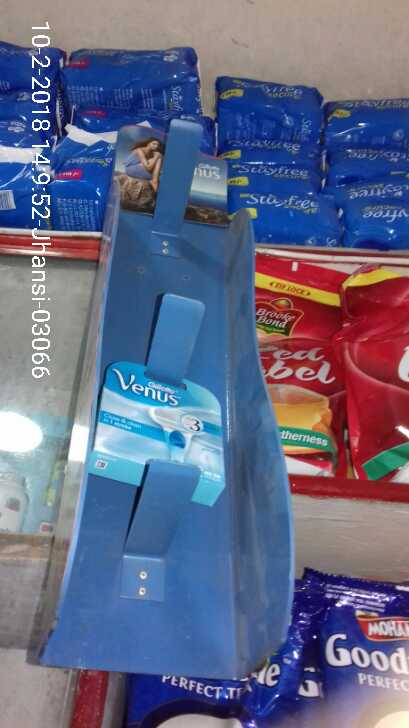beauty: (95, 353, 242, 512)
